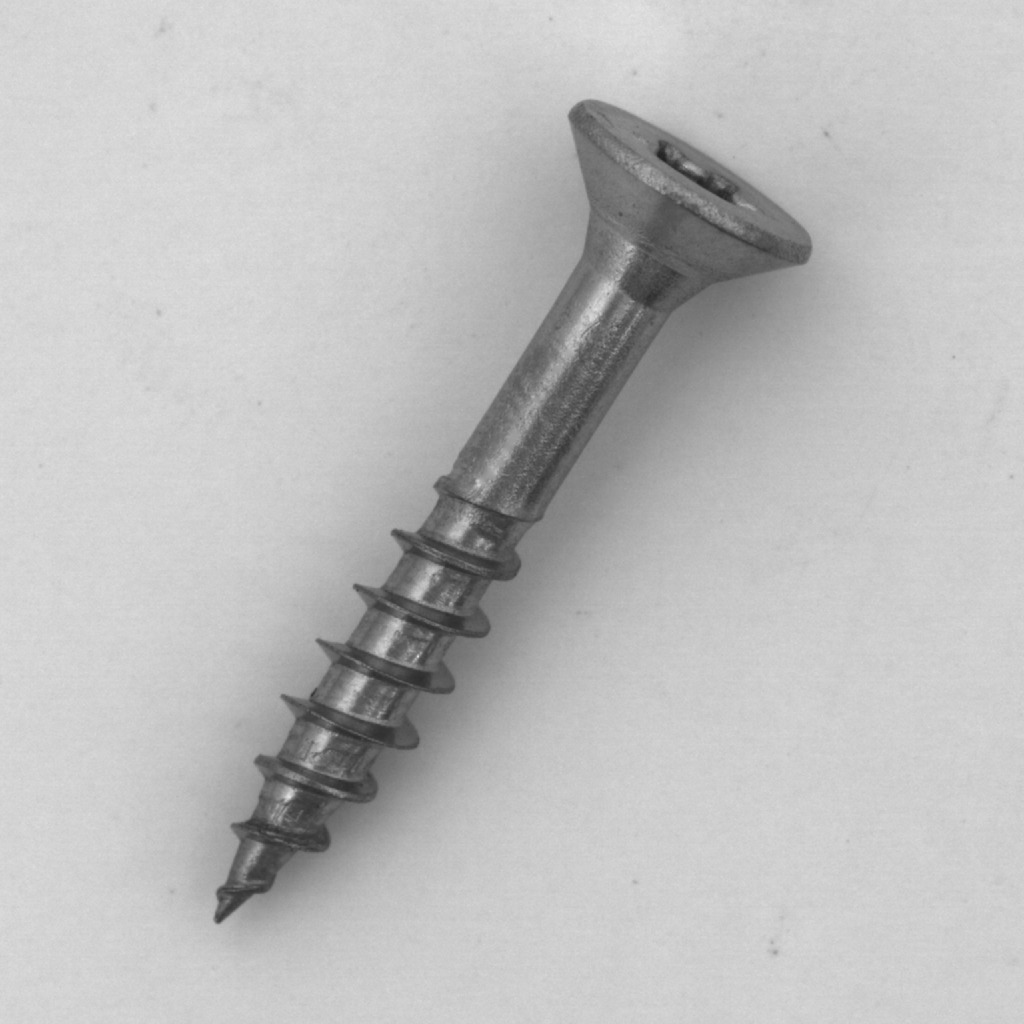good: (192, 79, 862, 941)
